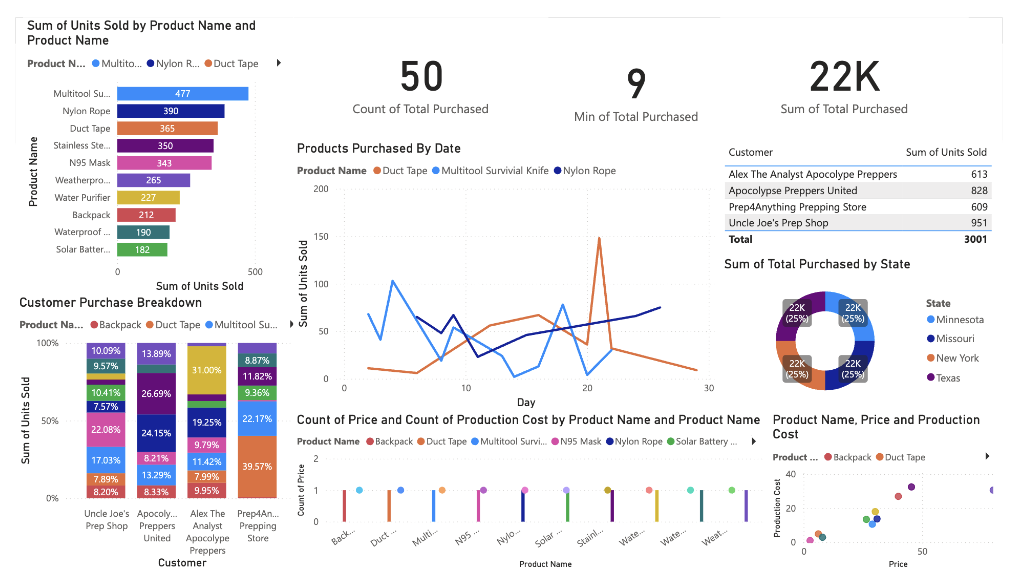

Layout of this report page (visuals, bound fields, positions):
{"tool":"powerbi","page":{"name":"Page 1","canvas":[1280,720],"ordinal":0},"visuals":[{"type":"barChart","fields":{"Category":["Apocolypse Store.Product Name"],"Y":["Sum(Apocolypse Sales.Units Sold)"],"Series":["Apocolypse Store.Product Name"]},"box":[10.1,0,350.5,360.5],"z":0},{"type":"hundredPercentStackedColumnChart","title":"Customer Purchase Breakdown","fields":{"Category":["Customer Information.Customer"],"Y":["Sum(Apocolypse Sales.Units Sold)"],"Series":["Apocolypse Store.Product Name"]},"box":[0,358.8,372.3,360.5],"z":1000},{"type":"lineChart","title":"Products Purchased By Date","fields":{"Category":["Apocolypse Sales.Date Purchased.Variation.Date Hierarchy.Day"],"Y":["Sum(Apocolypse Sales.Units Sold)"],"Series":["Apocolypse Store.Product Name"]},"box":[360.1,159.4,553.9,351.8],"z":2000},{"type":"lineClusteredColumnComboChart","fields":{"Series":["Apocolypse Store.Product Name"],"Y2":["CountNonNull(Apocolypse Store.Production Cost)"],"Y":["CountNonNull(Apocolypse Store.Price)"],"Category":["Apocolypse Store.Product Name"]},"box":[360.1,511.3,617.1,208.9],"z":2001},{"type":"scatterChart","fields":{"X":["Apocolypse Store.Price"],"Y":["Apocolypse Store.Production Cost"],"Series":["Apocolypse Store.Product Name"]},"box":[977.2,511.3,302.4,207.5],"z":2002},{"type":"donutChart","fields":{"Category":["Customer Information.State"],"Y":["Sum(Customer Buyer Information.Total Purchased)"]},"box":[914,309.2,357.3,202],"z":2003},{"type":"card","fields":{"Values":["CountNonNull(Customer Buyer Information.Total Purchased)"]},"box":[360.1,0,331.2,159.4],"z":2004},{"type":"card","fields":{"Values":["Min(Customer Buyer Information.Total Purchased)"]},"box":[640.5,9.6,329.9,159.4],"z":2005},{"type":"card","fields":{"Values":["Sum(Customer Buyer Information.Total Purchased)"]},"box":[914,0,321.6,159.4],"z":2006},{"type":"tableEx","fields":{"Values":["Customer Information.Customer","Sum(Apocolypse Sales.Units Sold)"]},"box":[914,159.4,365.6,149.8],"z":2007}]}

Visuals, with their boxes in screenshot pixels (x1, y1, x2, y2), scaled from the page's 1280x720 canvas onto the 1019x588 screenshot:
barChart - Apocolypse Store.Product Name x Sum(Apocolypse Sales.Units Sold): (left=8, top=0, right=287, bottom=294)
"Customer Purchase Breakdown" hundredPercentStackedColumnChart: (left=0, top=293, right=296, bottom=587)
"Products Purchased By Date" lineChart: (left=287, top=130, right=728, bottom=417)
lineClusteredColumnComboChart - Apocolypse Store.Product Name x CountNonNull(Apocolypse Store.Production Cost): (left=287, top=418, right=778, bottom=587)
scatterChart - Apocolypse Store.Price x Apocolypse Store.Production Cost: (left=778, top=418, right=1018, bottom=587)
donutChart - Customer Information.State x Sum(Customer Buyer Information.Total Purchased): (left=728, top=253, right=1012, bottom=417)
card - CountNonNull(Customer Buyer Information.Total Purchased): (left=287, top=0, right=550, bottom=130)
card - Min(Customer Buyer Information.Total Purchased): (left=510, top=8, right=773, bottom=138)
card - Sum(Customer Buyer Information.Total Purchased): (left=728, top=0, right=984, bottom=130)
tableEx - Customer Information.Customer x Sum(Apocolypse Sales.Units Sold): (left=728, top=130, right=1018, bottom=253)
